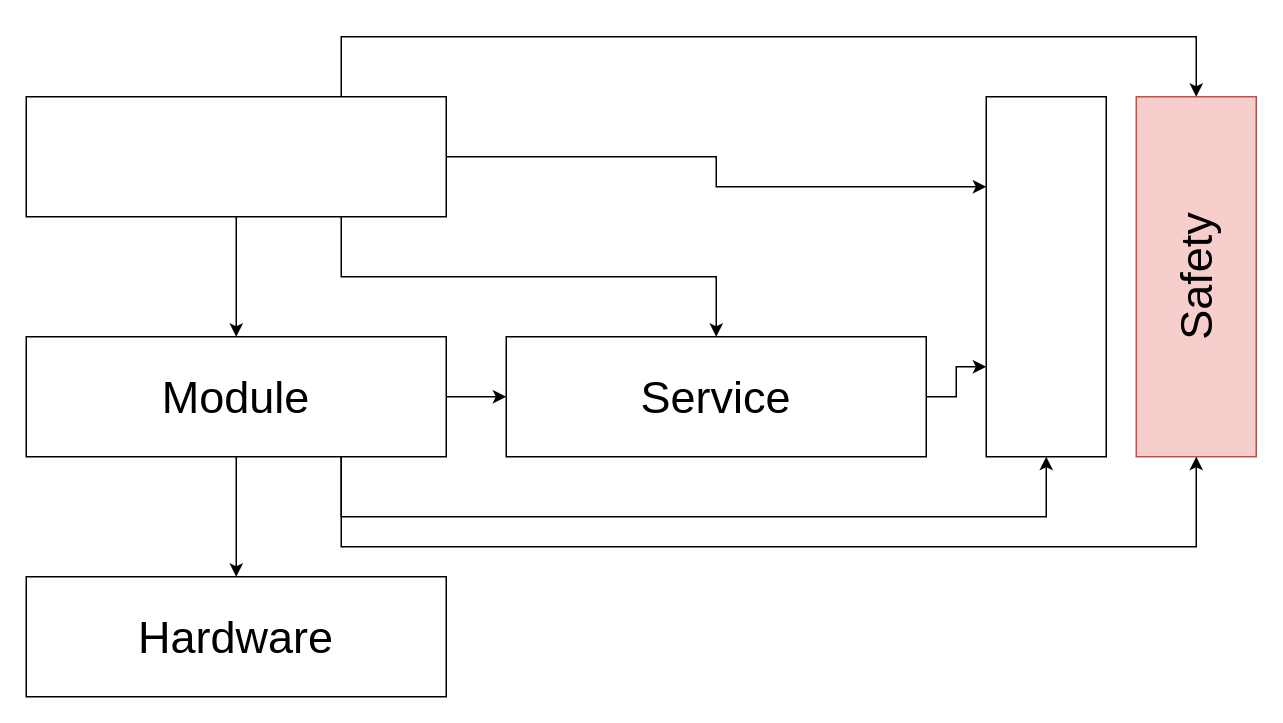
The diagram is 1283 pixels wide and 723 high, and some of its shapes have lost their labels. Here are the shapes that lost their labels. From the top down, the centre of each, then its label:
At point 235,156: "Mode".
At point 1045,276: "Event".
